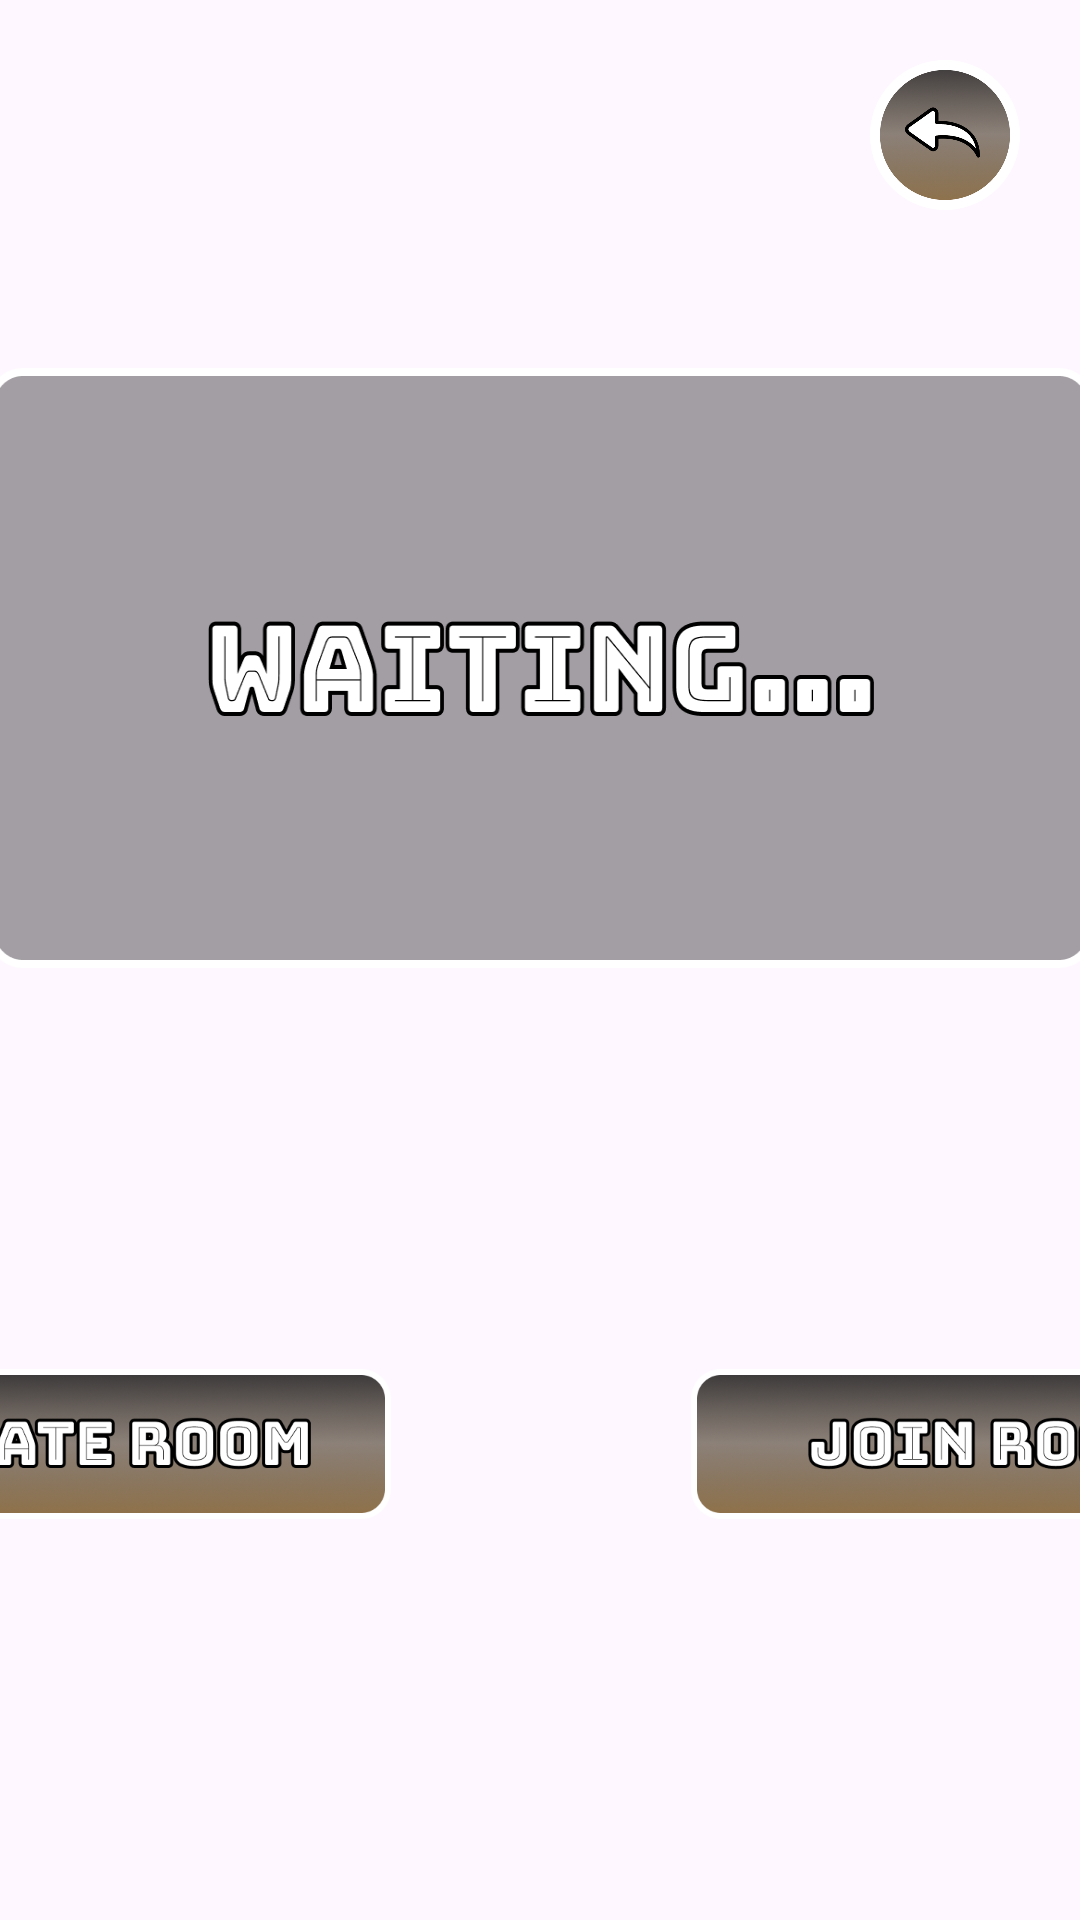

Icon click points for this 1080x1920 phone screenshot, format [x,y]:
back: [945,135]
